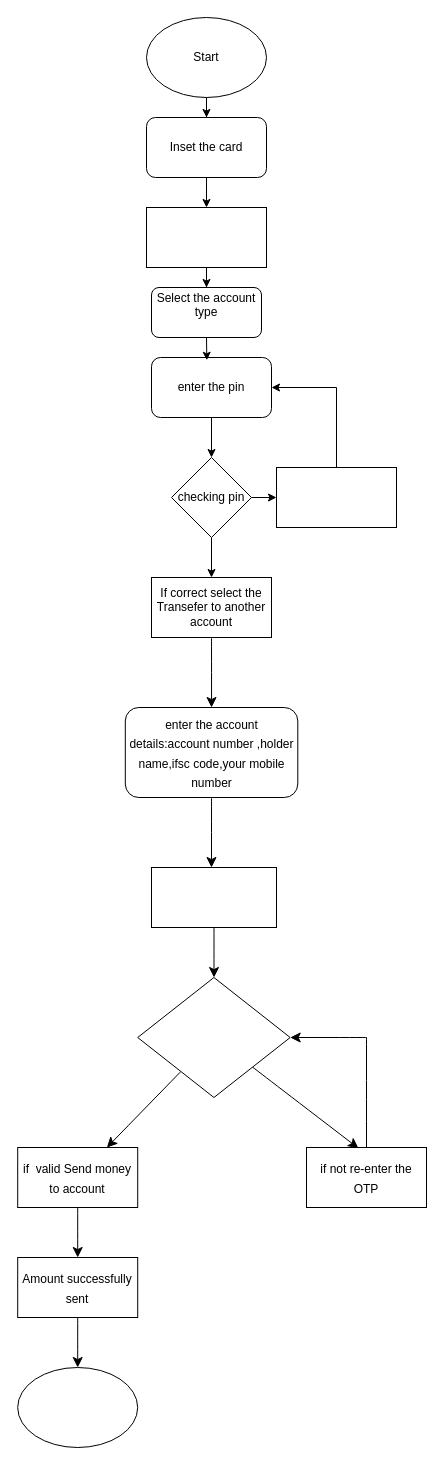
This 444x1465 diagram has some shape labels left out. Here are the shapes that lost their labels. From the top down, the centre of each, then its label:
the point at 206,237: Display : Proccesing the your card
the point at 336,497: If not enter correct pin
the point at 213,897: enter the OTP snet to your number
the point at 213,1037: check OTP valid or not
the point at 77,1407: Stop
